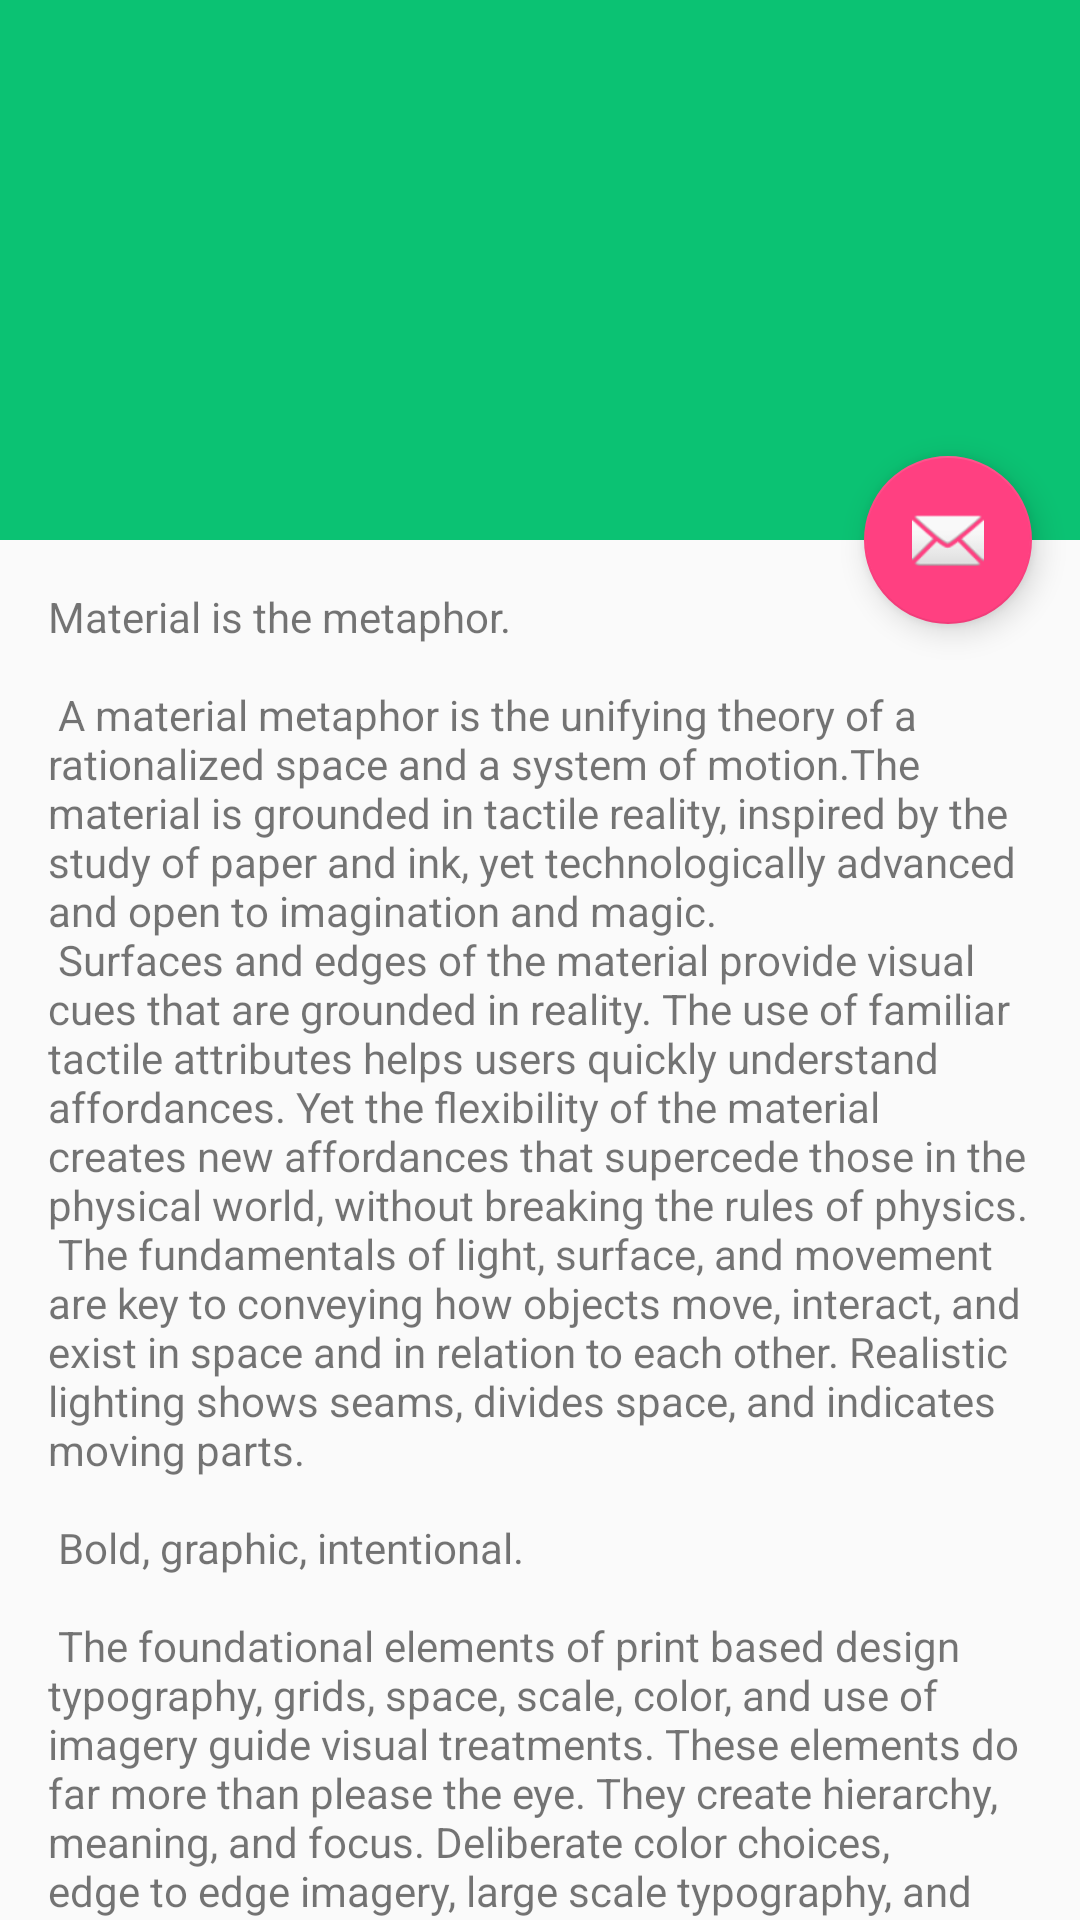

Screen size 1080w x 1920h. Icon name, then its center in pixels as (x=x, y=y):
email: (x=948, y=540)
